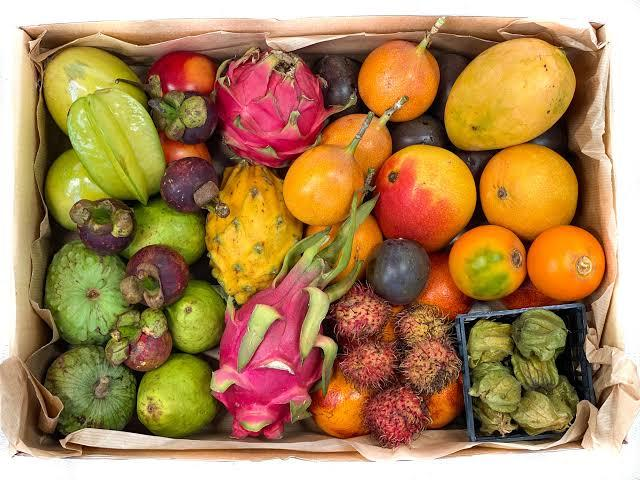chom_chom: (366, 382, 429, 449), (402, 337, 463, 394), (335, 335, 400, 386)
mang_cut: (123, 244, 191, 309), (113, 313, 178, 373)
thanh_long: (213, 208, 345, 437)
xoai: (444, 35, 574, 148)
